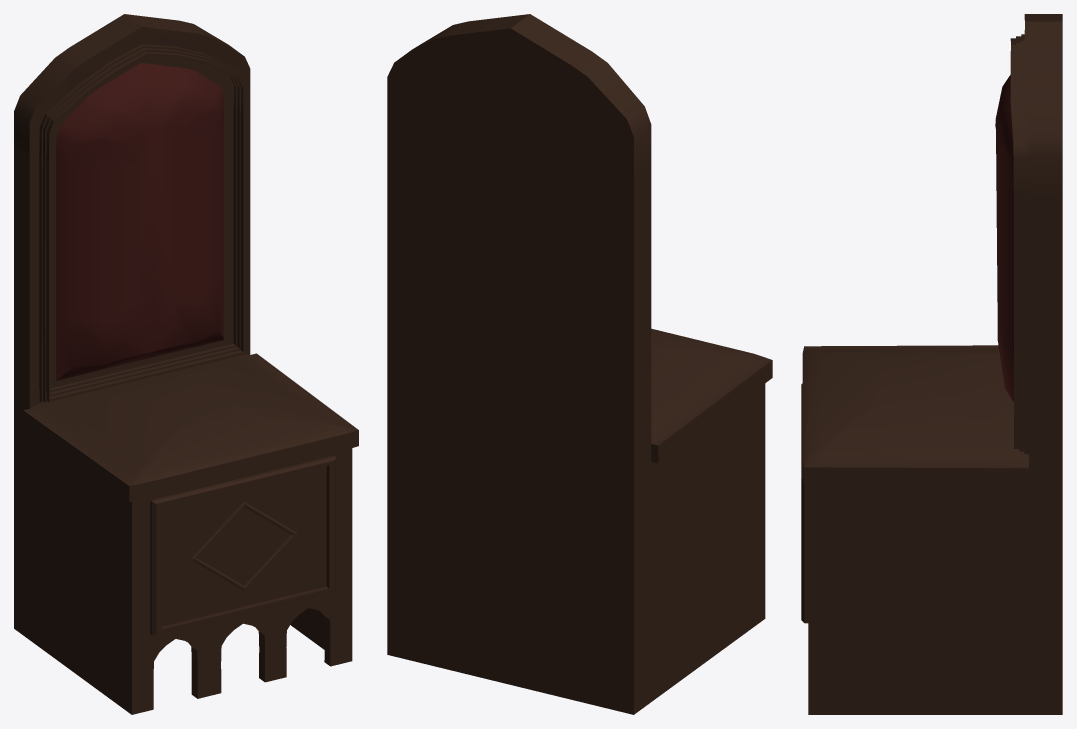
The model's file is Throne 2.fbx.
3 views of the same model, side by side, from view 1: azimuth 30°, elevation 25°; view 2: azimuth 150°, elevation 25°; view 3: azimuth 270°, elevation 25° (orthographic). The views are drawn at different scales.
Parts seen in each view (by area): view 1: Throne 1.002; view 2: Throne 1.002; view 3: Throne 1.002.
Boxes of the visible parts, x1,y1,x2,y2 form: Throne 1.002: (14,14,358,714); Throne 1.002: (387,14,772,714); Throne 1.002: (801,14,1062,714).
Size of the model in its own units: 161 by 388 by 145.
